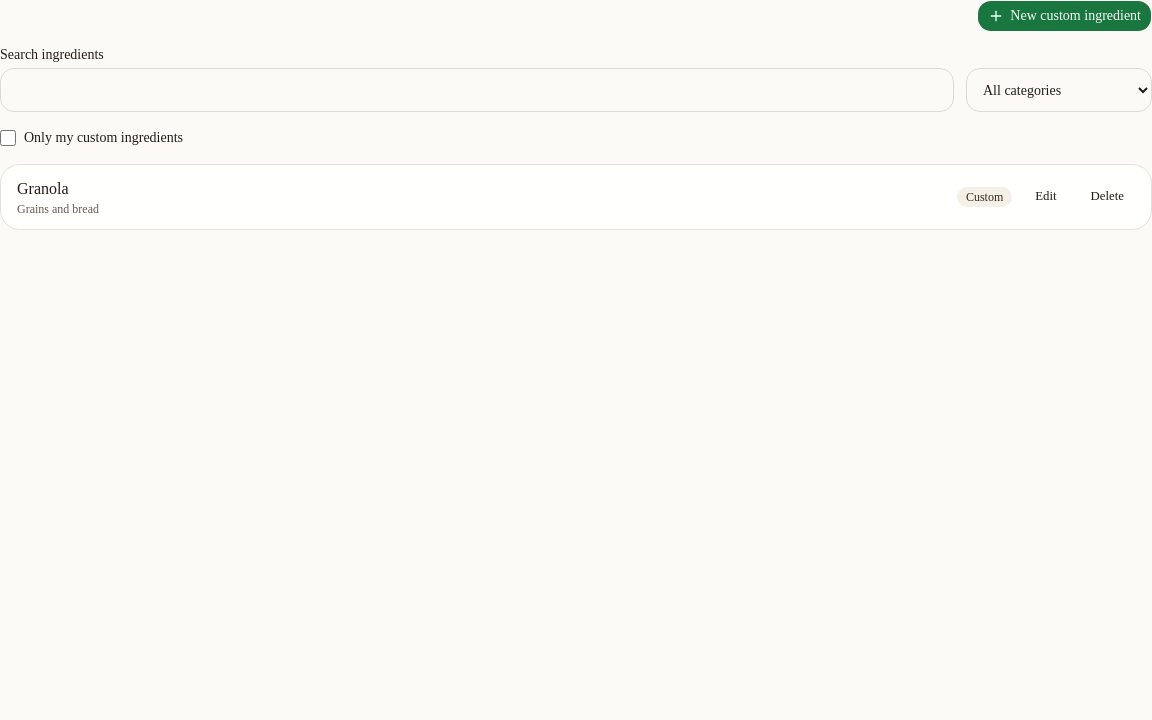
Scenario: editing › shows the ingredient as it is
Click the button with aria-label "Edit Granola" at (1046, 197), box x1=1024 y1=183 x2=1068 y2=211
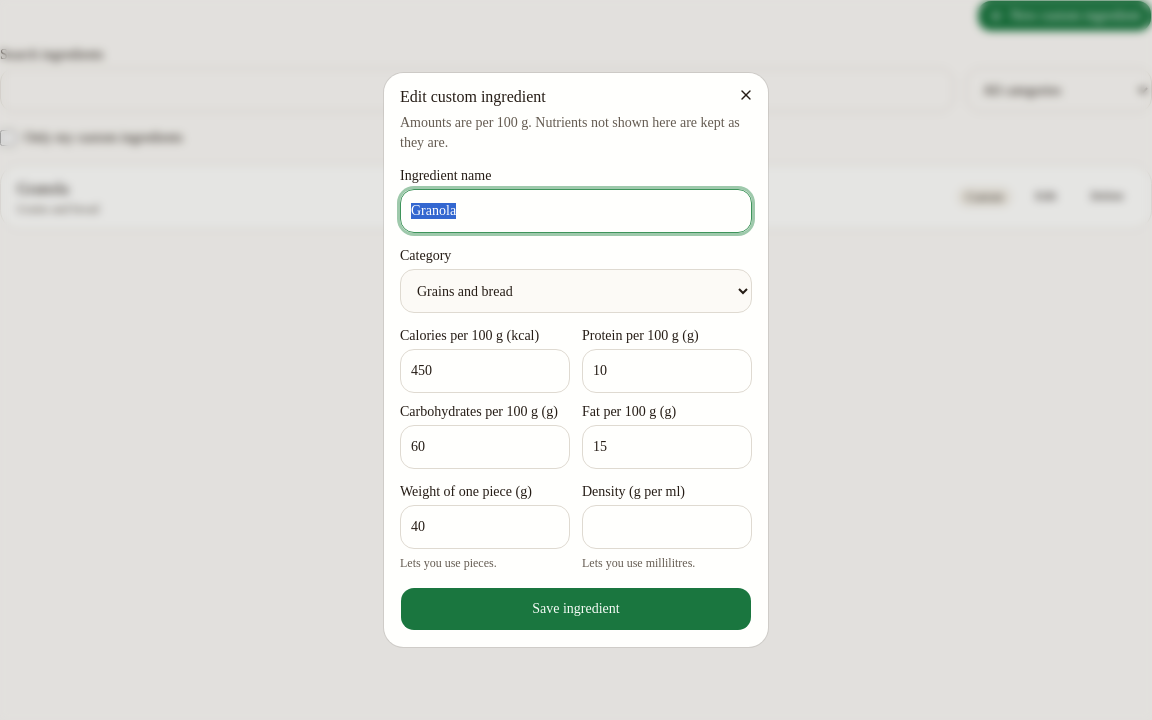
Expected: the field labelled "Ingredient name" holds "Granola", x1=400 y1=189 x2=752 y2=233
Expected: the dropdown labelled "Category" shows "Grains and bread", x1=400 y1=269 x2=752 y2=313
Expected: the field labelled "Calories per 100 g (kcal)" holds "450", x1=400 y1=349 x2=570 y2=393
